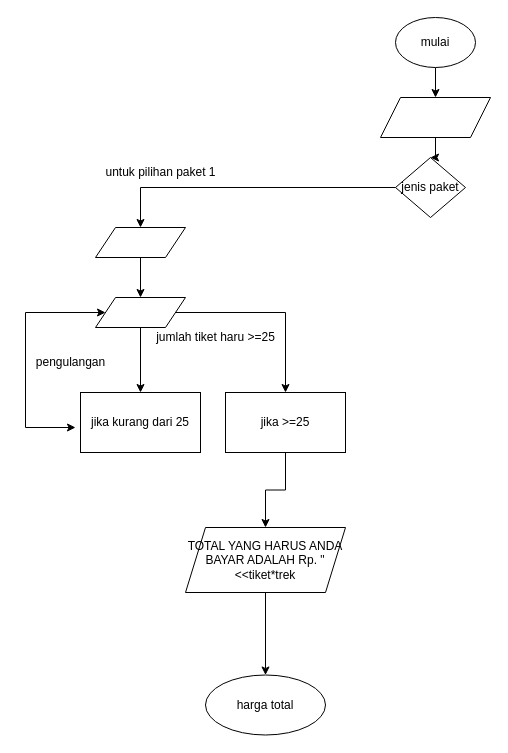
Some shapes in this 508 by 753 pixel diagram are drawn without their labels. Each missing label, with the centre of its shape:
"masukan jenis paket" goes at point (435, 117).
"plh 1" goes at point (140, 242).
"tiket" goes at point (140, 312).
